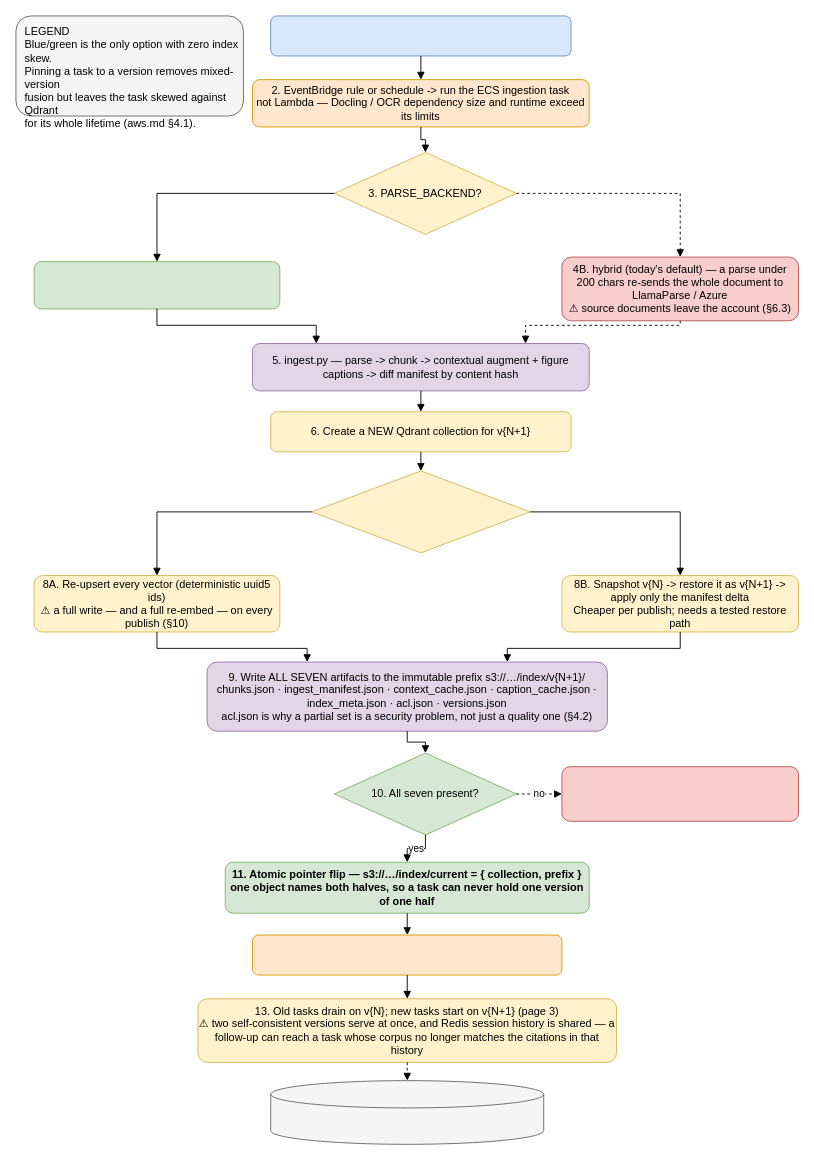
This 814x1160 diagram has some shape labels left out. The shapes that lost their labels are listed below. From the top down, each one's box as (x1, y1, x2, y2) in pixels, then its label:
(270, 15, 571, 56): 1. Raw documents uploaded to s3://…/raw/
(33, 261, 280, 309): 4A. local — recommended for AWS. Nothing leaves the account
(311, 470, 530, 553): 7. Full republish, or snapshot + delta?
(561, 766, 799, 821): No -> abort and leave the pointer on v{N}. Never publish a partial set
(252, 934, 562, 975): 12. Force an ECS rolling redeploy of the service
(270, 1080, 544, 1144): 14. After the retention window — drop collection v{N}, expire the old S3 prefix
